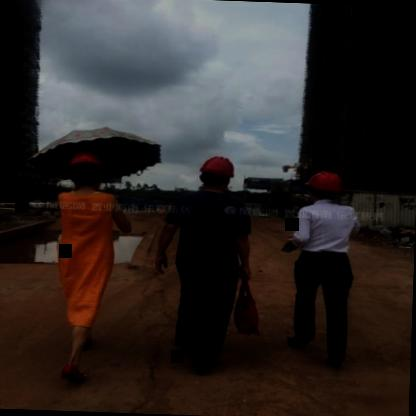helmet: (62, 150, 112, 195), (194, 155, 238, 196), (303, 168, 349, 206)
